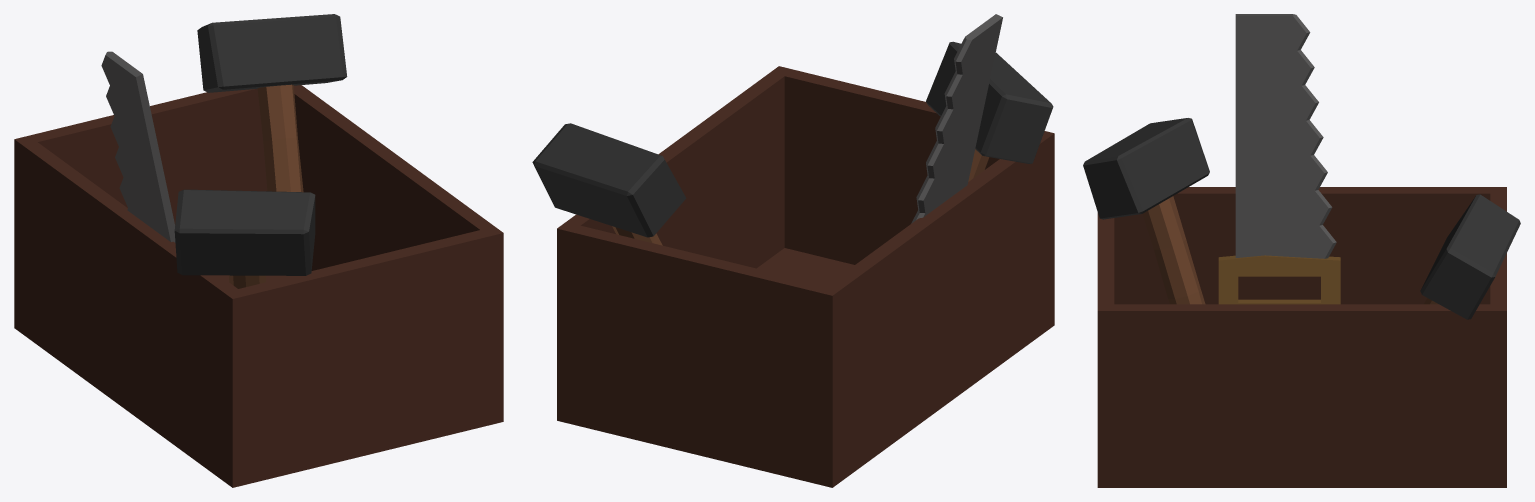
Rendered from ToolBox.fbx.
3 renders of one model, left to right at view 1: azimuth 30°, elevation 25°; view 2: azimuth 150°, elevation 25°; view 3: azimuth 270°, elevation 25°, orthographic. The views are drawn at different scales.
Visible parts, largest first — view 1: ToolBox; view 2: ToolBox; view 3: ToolBox.
Boxes of the visible parts, x1,y1,x2,y2 form: ToolBox: [14, 14, 503, 487]; ToolBox: [532, 14, 1054, 487]; ToolBox: [1083, 14, 1520, 487].
Bounding box in the file's own units: 245 × 257 × 299.
